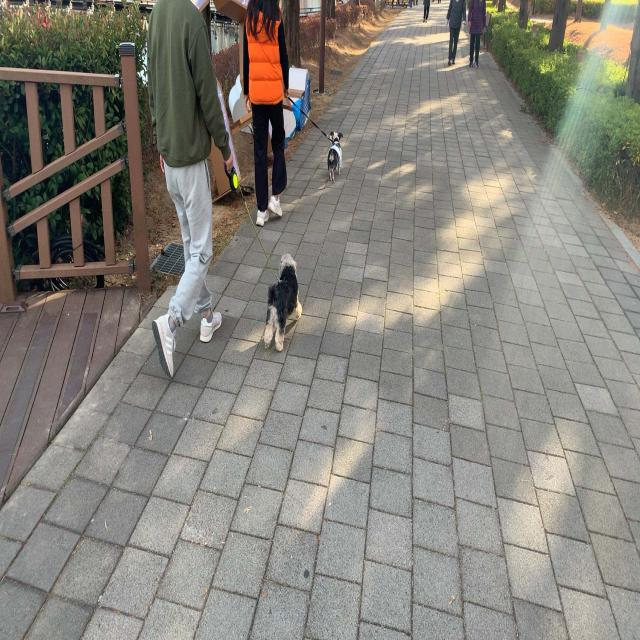Leashed_Dog: (189, 119, 304, 356), (266, 68, 343, 183)
